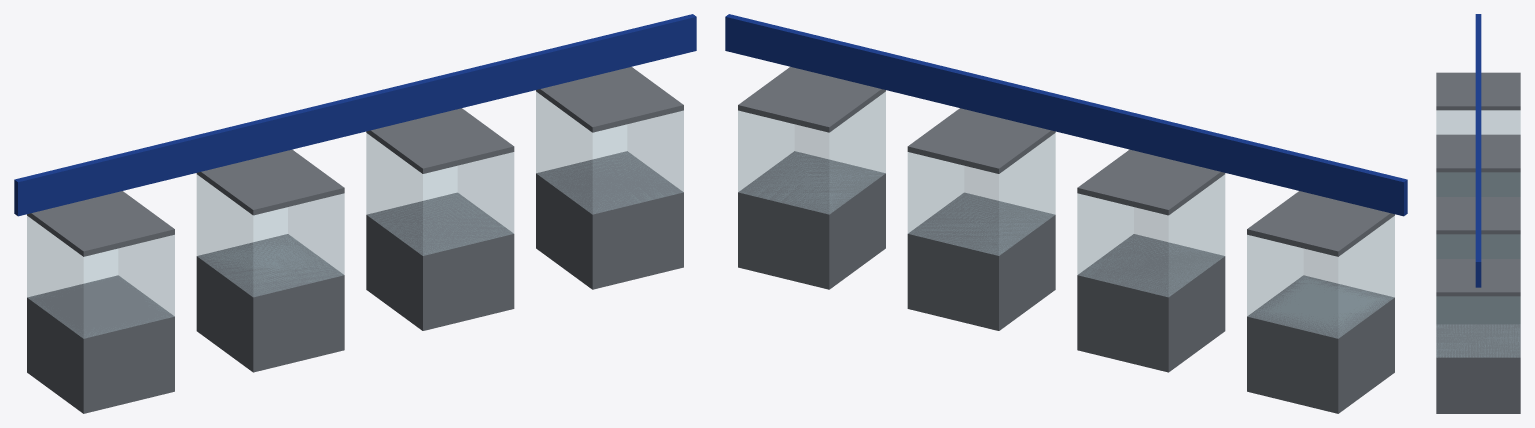
The model's file is airport.security.immigration_hall.glb.
The picture shows the model from 3 angles, left to right: view 1: azimuth 30°, elevation 25°; view 2: azimuth 150°, elevation 25°; view 3: azimuth 270°, elevation 25°; orthographic projection. The views are drawn at different scales.
Parts seen in each view (by area): view 1: main__laminate_grey, main__glass, main__plastic_blue; view 2: main__laminate_grey, main__glass, main__plastic_blue; view 3: main__laminate_grey, main__glass, main__plastic_blue.
Part boxes in pixels (<box>): main__laminate_grey: <box>27,67,683,413</box>; main__glass: <box>27,92,683,338</box>; main__plastic_blue: <box>14,14,696,216</box>; main__laminate_grey: <box>738,67,1394,413</box>; main__glass: <box>738,92,1394,338</box>; main__plastic_blue: <box>725,14,1407,216</box>; main__laminate_grey: <box>1436,72,1520,413</box>; main__glass: <box>1436,110,1520,357</box>; main__plastic_blue: <box>1475,14,1481,287</box>.
Bounding box in the file's own units: 10.4 × 3.25 × 1.5.
